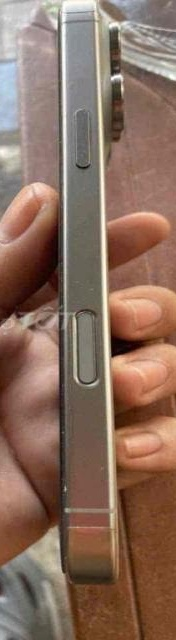scratch: (44, 269, 130, 319), (51, 427, 78, 448), (54, 479, 85, 496), (92, 462, 114, 476)
